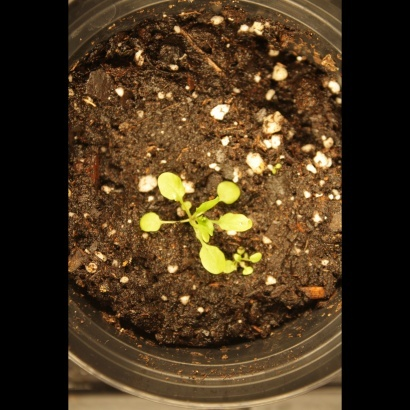leaf: (153, 167, 188, 204), (213, 178, 250, 208), (216, 211, 260, 236), (200, 240, 226, 280), (136, 210, 163, 238), (193, 218, 216, 241), (248, 243, 271, 266), (242, 263, 265, 286), (216, 256, 239, 279)
